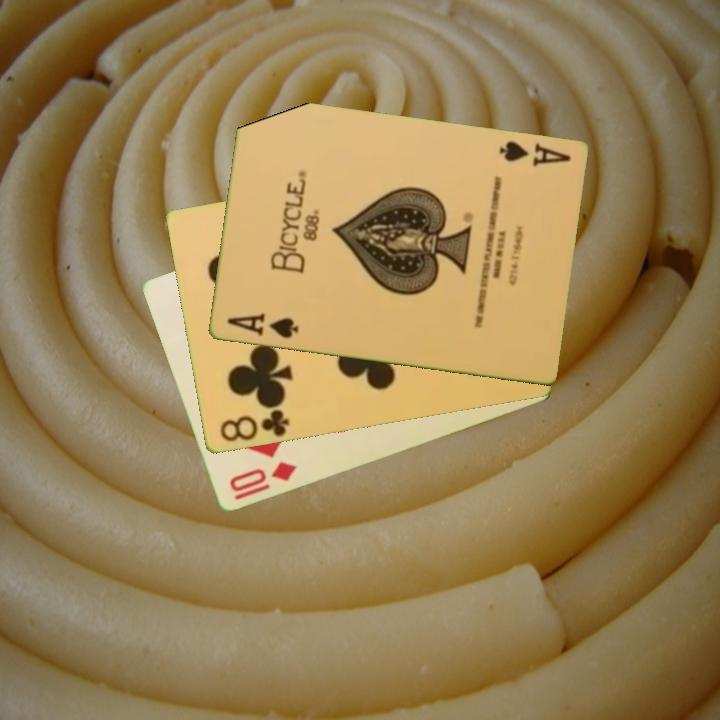10d: (225, 458, 300, 496)
8c: (216, 406, 292, 445)
As: (223, 310, 301, 342), (495, 138, 573, 170)
